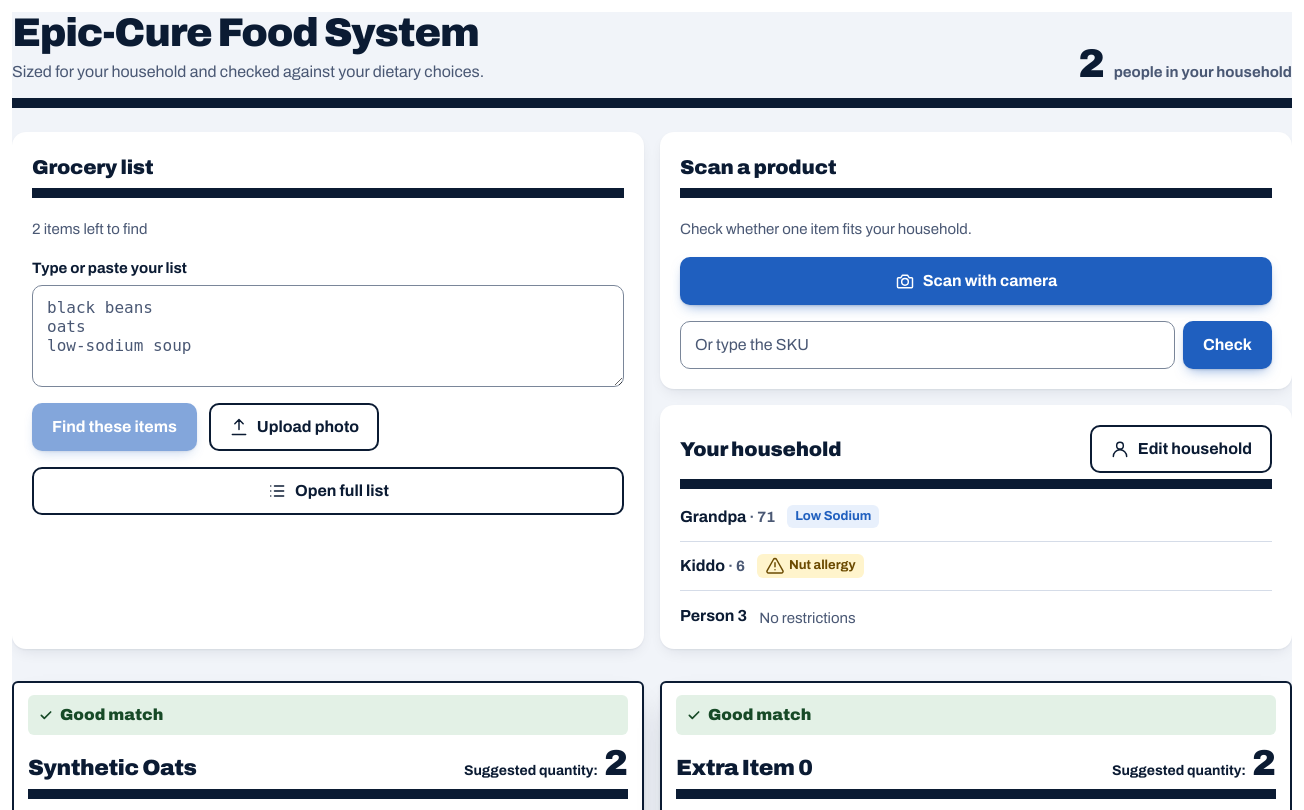
Scenario: grocery list widget shows what is left, links to the list, and reviews typed items
Expected: the element "Grocery list" shows "2 items left to find", [12, 132, 644, 649]
Expected: the element "Grocery list" does not show "Scan to add", [12, 132, 644, 649]
Type "oats" into the text box labelled "Type or paste your list" at coordinates (328, 336), box [32, 285, 624, 387]
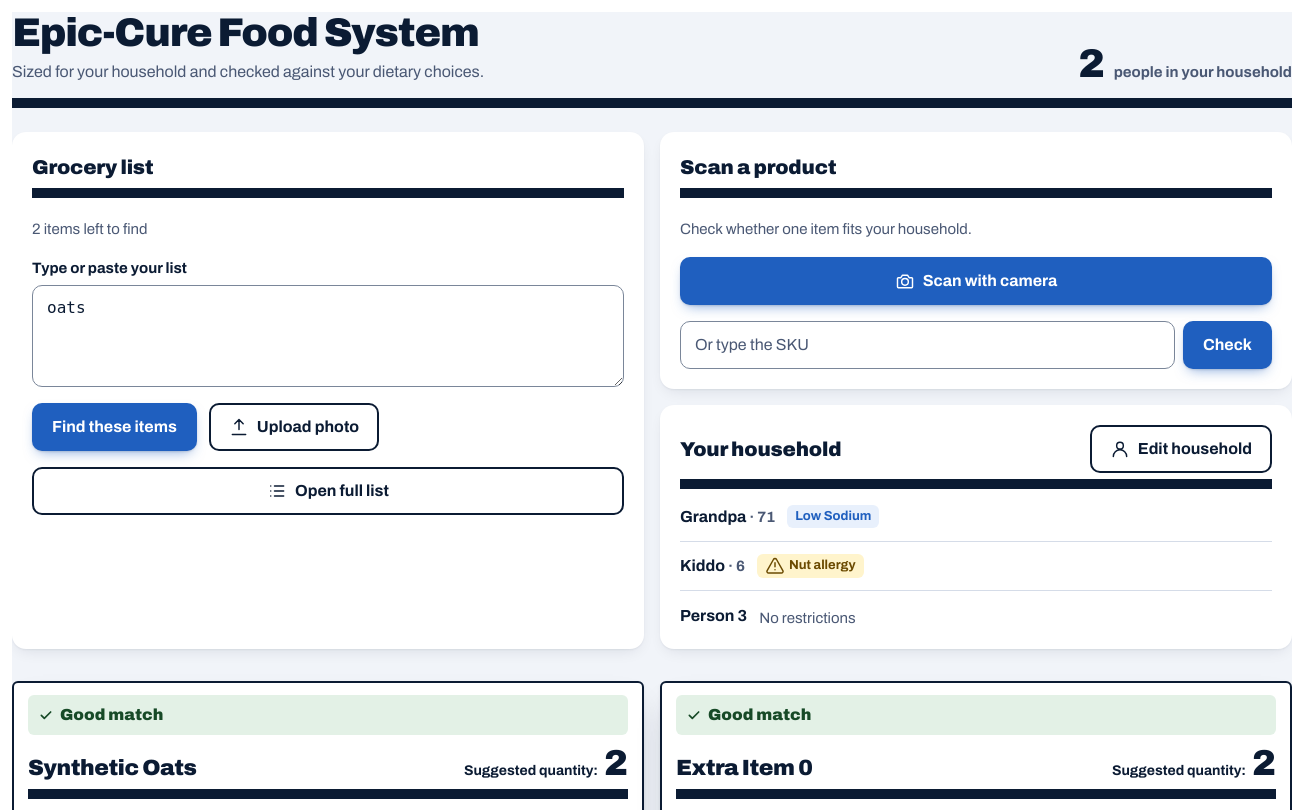
Click the button "Find these items" at coordinates (114, 427), box [32, 403, 197, 451]
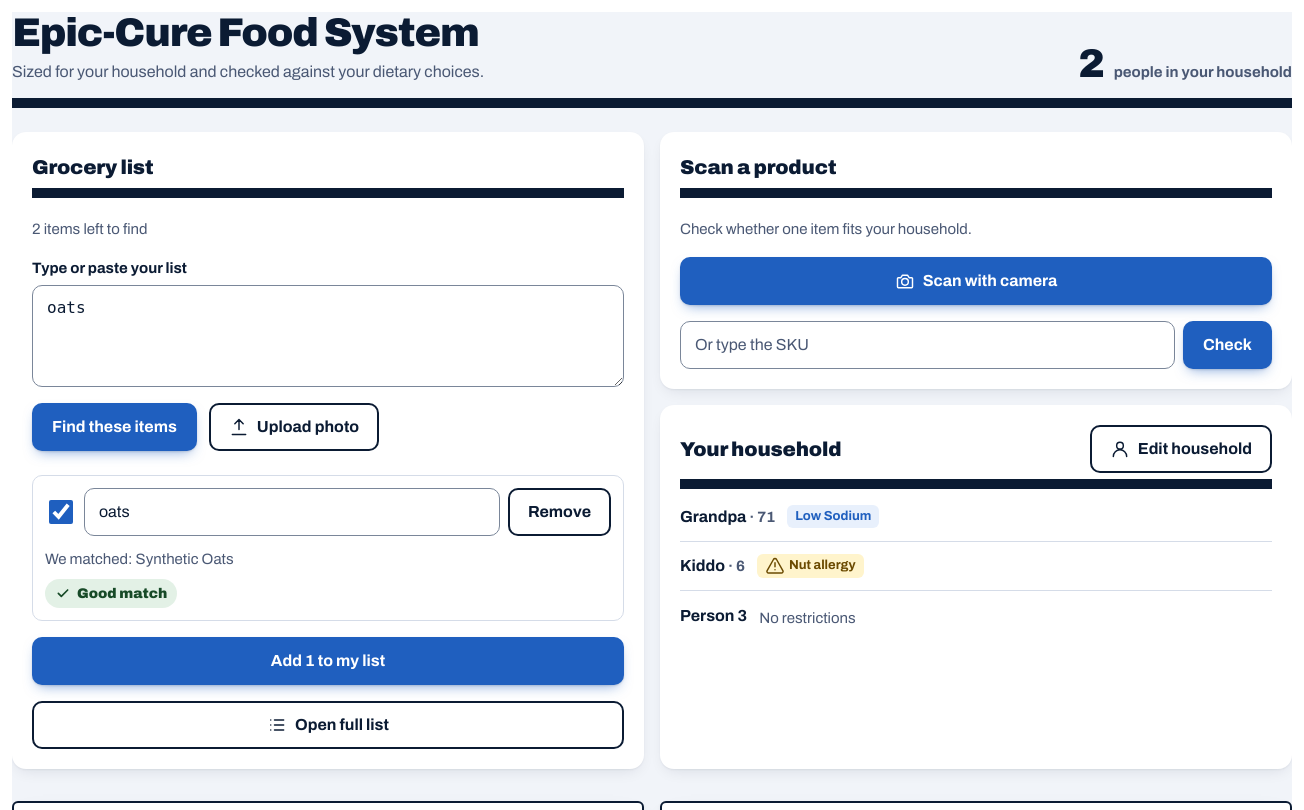
Now the text "We matched: Synthetic Oats" is shown, box [45, 548, 234, 570]
